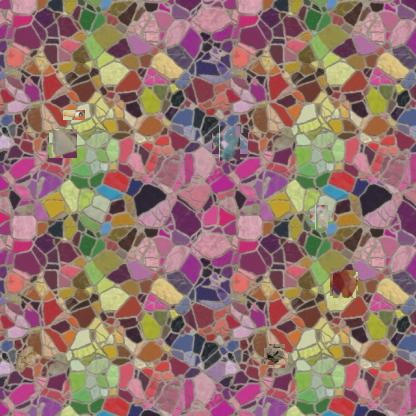dirty: (14, 344, 42, 374), (49, 130, 77, 160), (266, 346, 286, 366), (313, 208, 331, 227), (63, 110, 85, 120)
liquid: (216, 129, 244, 158), (331, 271, 357, 297)
